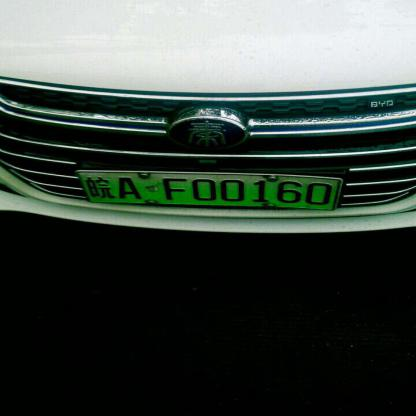lp: (79, 172, 338, 208)
